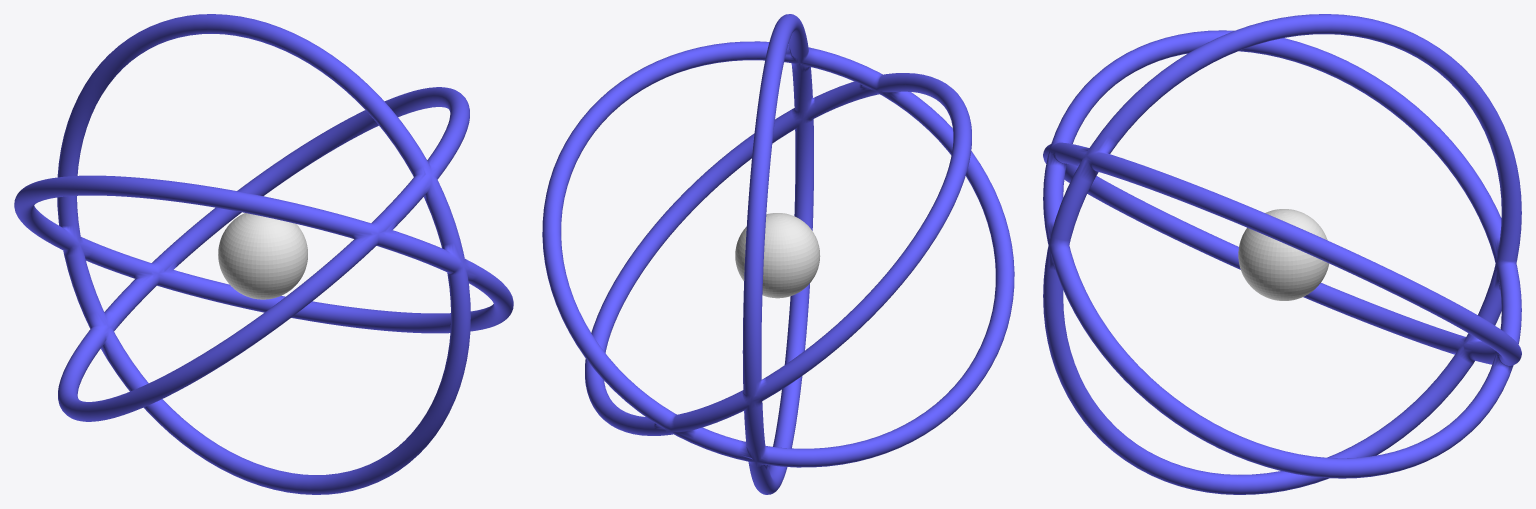
Rendered from React3D.glb.
3 views of the same model, side by side, from view 1: azimuth 30°, elevation 25°; view 2: azimuth 150°, elevation 25°; view 3: azimuth 270°, elevation 25° (orthographic). The views are drawn at different scales.
Parts seen in each view (by area): view 1: Torus.002, Sphere; view 2: Torus.002, Sphere; view 3: Torus.002, Sphere.
Part boxes in pixels (<box>): Torus.002: <box>14,14,513,494</box>; Sphere: <box>218,213,307,299</box>; Torus.002: <box>542,14,1014,494</box>; Sphere: <box>735,213,820,298</box>; Torus.002: <box>1043,14,1521,494</box>; Sphere: <box>1238,209,1329,300</box>.
Size of the model in its own units: 0.4909 by 0.5511 by 0.5071.
